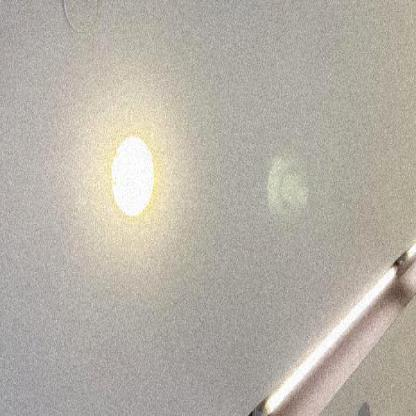light_on: (250, 263, 400, 415), (108, 115, 164, 227), (404, 237, 416, 268)
